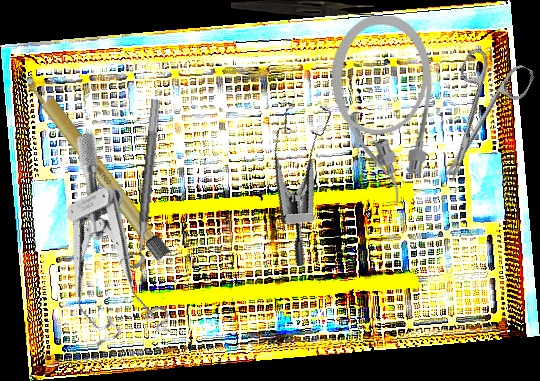Cannula: (331, 16, 433, 203)
Dressing Forceps: (231, 0, 374, 16)
Fixation Ring: (118, 97, 162, 270)
Iris Scissors: (414, 41, 537, 195)
Scalpel Handle: (21, 70, 172, 262)
Speculum: (7, 130, 190, 365), (247, 88, 373, 269)
